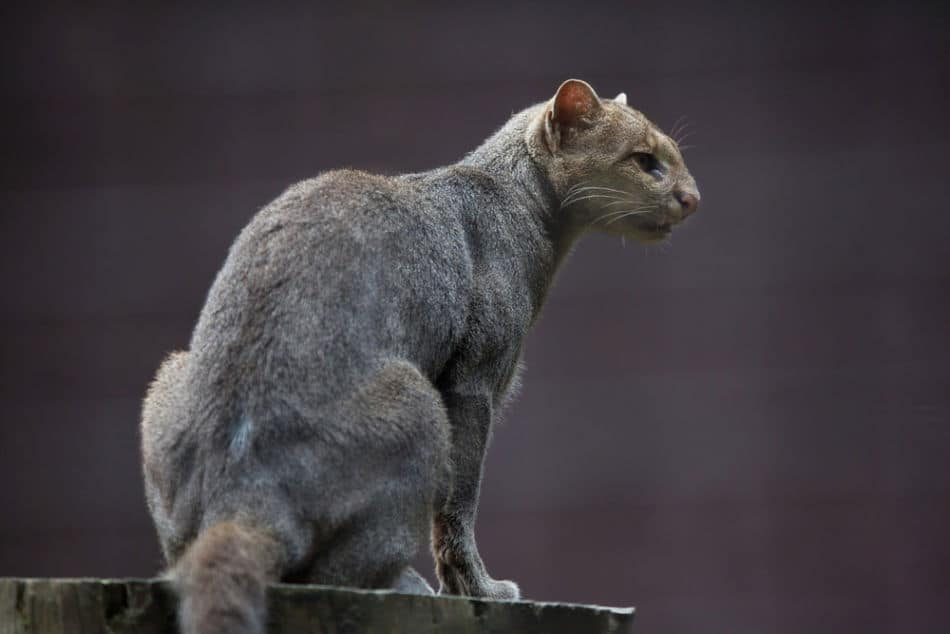Jaguarundi: (118, 71, 720, 604)
